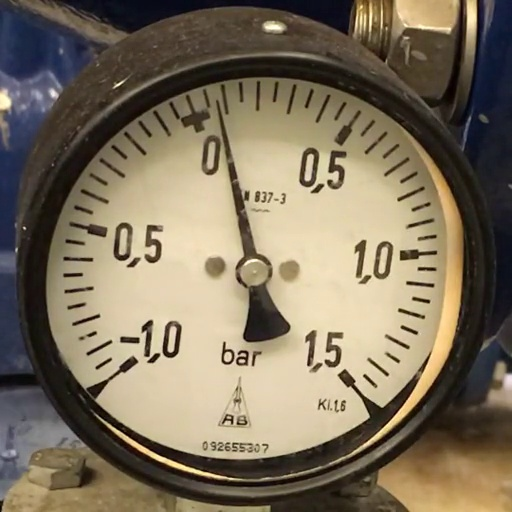base: (236, 254, 273, 288)
circle_plate: (47, 76, 463, 460)
maximum: (338, 369, 356, 388)
minimum: (119, 356, 138, 371)
number: (120, 320, 182, 362), (112, 222, 164, 268), (298, 147, 348, 193), (354, 240, 394, 284), (305, 330, 344, 373), (200, 134, 222, 176)
tip: (214, 96, 220, 105)
